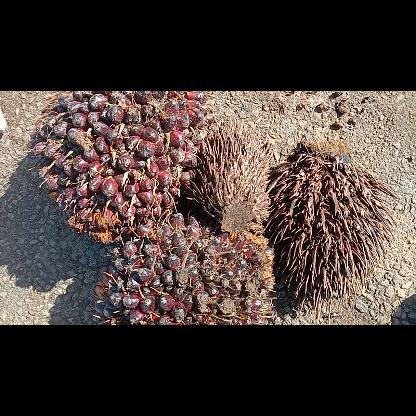Janjang kosong: (266, 140, 398, 324), (187, 118, 271, 234)
TBS mentah: (28, 90, 214, 244), (90, 212, 272, 324)
